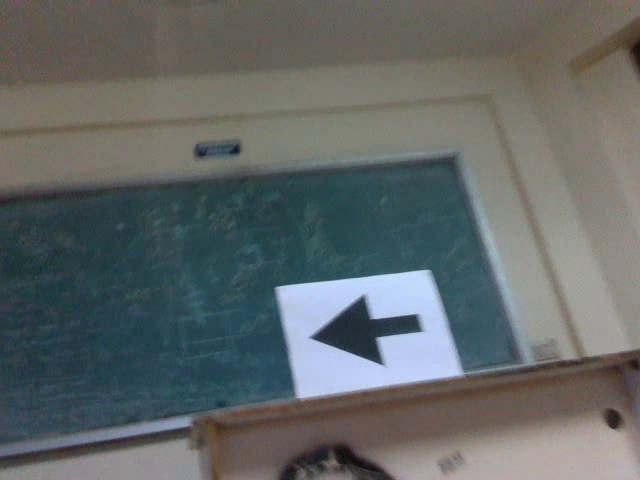Left: (303, 291, 423, 370)
